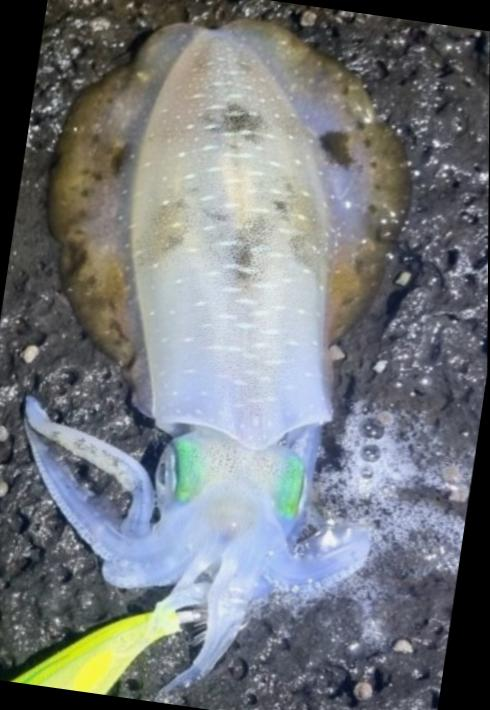Cephalopod: (26, 19, 408, 691)
